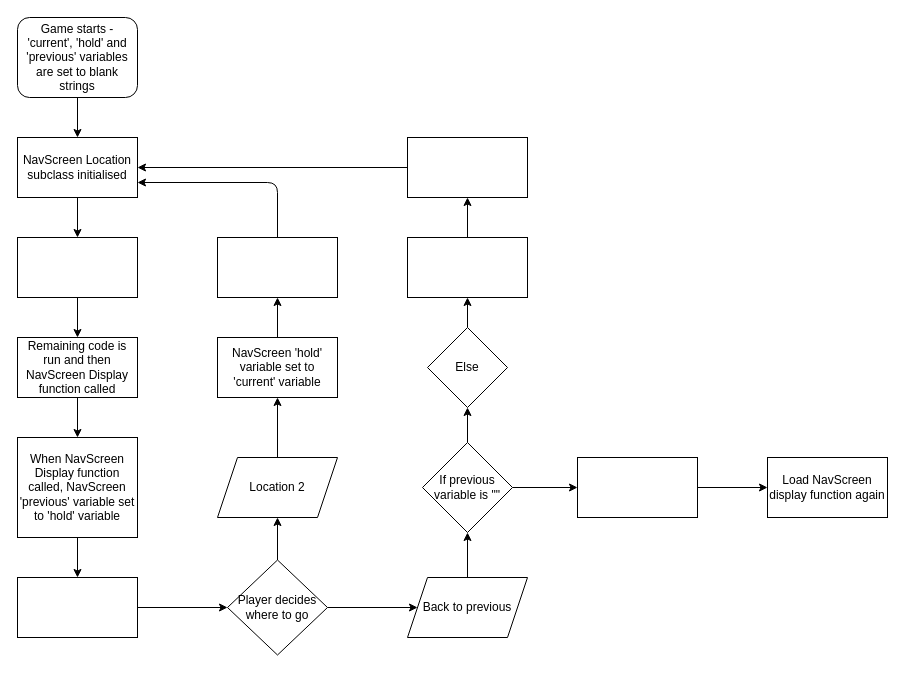
Some shapes in this 905 by 673 pixel diagram are drawn without their labels. Each missing label, with the centre of its shape:
"call location subclass init assigned to 'previous' variable" belongs at (x=467, y=167).
"call location subclass init assigned to NavSelect option player has selected" belongs at (x=277, y=267).
"Error Message telling player to try a different choice" belongs at (x=637, y=487).
"NavScreen 'current' variable set to Location subclass init function" belongs at (x=77, y=267).
"Remaining code runs and NavSelect initialised" belongs at (x=77, y=607).
"Set 'hold' variable to 'current' variable" belongs at (x=467, y=267).
